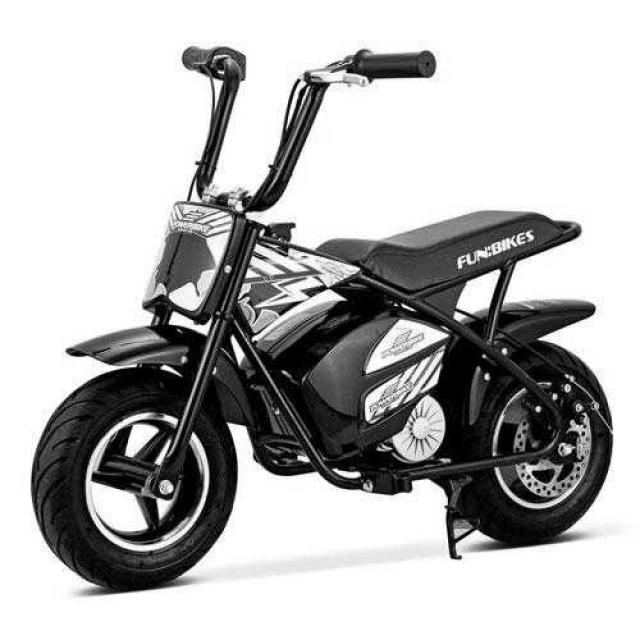Motorcycle: (31, 48, 612, 590)
